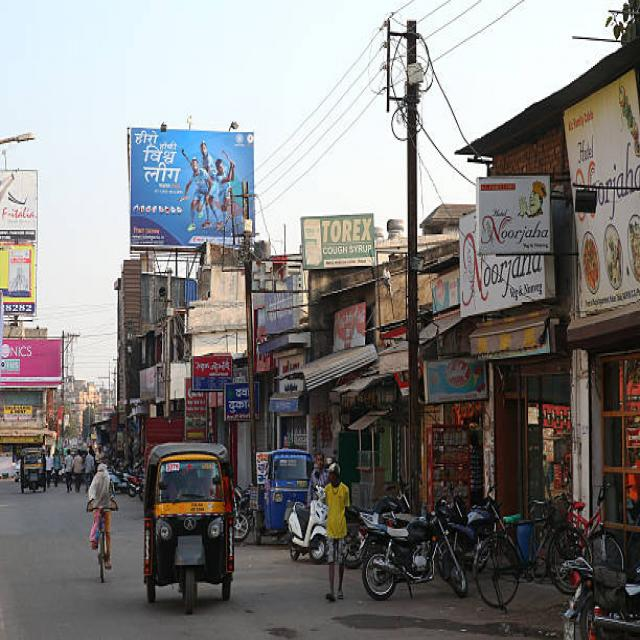Werbetafel frei: (125, 125, 251, 256), (3, 168, 35, 321)
